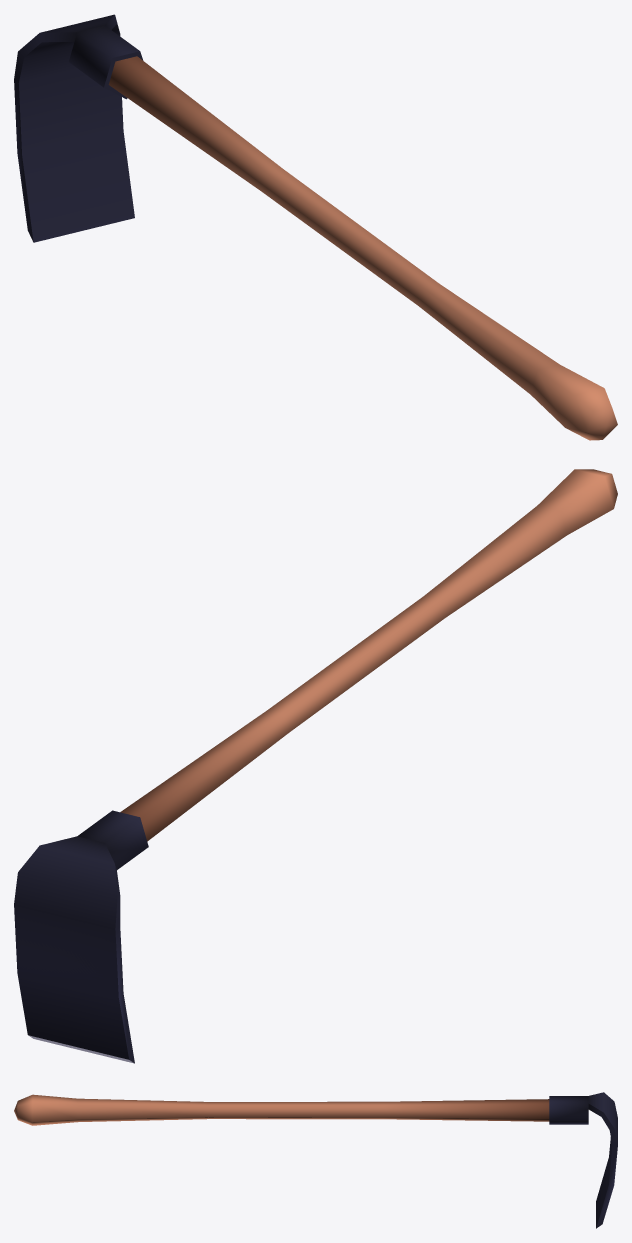
File: Tools_Hoe.fbx
3 views of the same model, one above another, from view 1: azimuth 30°, elevation 25°; view 2: azimuth 150°, elevation 25°; view 3: azimuth 270°, elevation 25° (orthographic). The views are drawn at different scales.
Parts seen in each view (by area): view 1: Hoe; view 2: Hoe; view 3: Hoe.
Part boxes in pixels (<box>): Hoe: <box>14,14,617,440</box>; Hoe: <box>14,469,617,1063</box>; Hoe: <box>14,1092,617,1228</box>.
Bounding box in the file's own units: 45.98 × 90.25 × 425.
